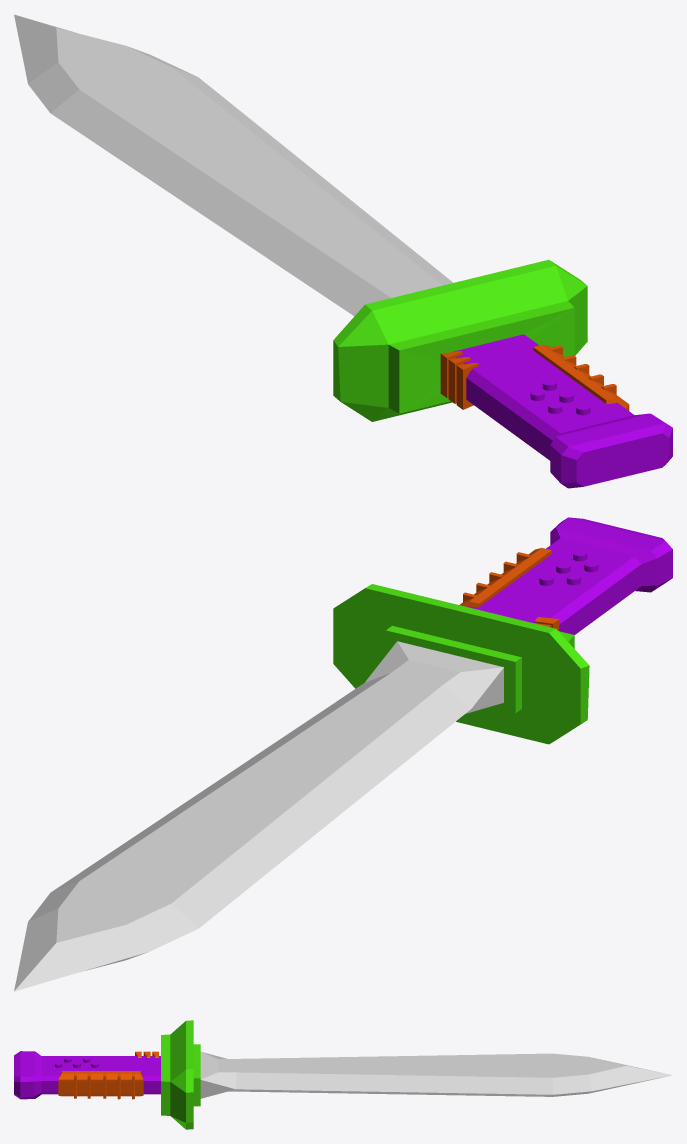
File: swordcolor002.fbx
The picture shows the model from 3 angles, top to bottom: view 1: azimuth 30°, elevation 25°; view 2: azimuth 150°, elevation 25°; view 3: azimuth 270°, elevation 25°; orthographic projection. The views are drawn at different scales.
Parts seen in each view (by area): view 1: Cube; view 2: Cube; view 3: Cube.
Boxes of the visible parts, left/top/right/bottom form: Cube: left=14, top=14, right=672, bottom=488; Cube: left=14, top=517, right=672, bottom=991; Cube: left=14, top=1020, right=672, bottom=1129.
Bounding box in the file's own units: 202 × 86.87 × 854.
